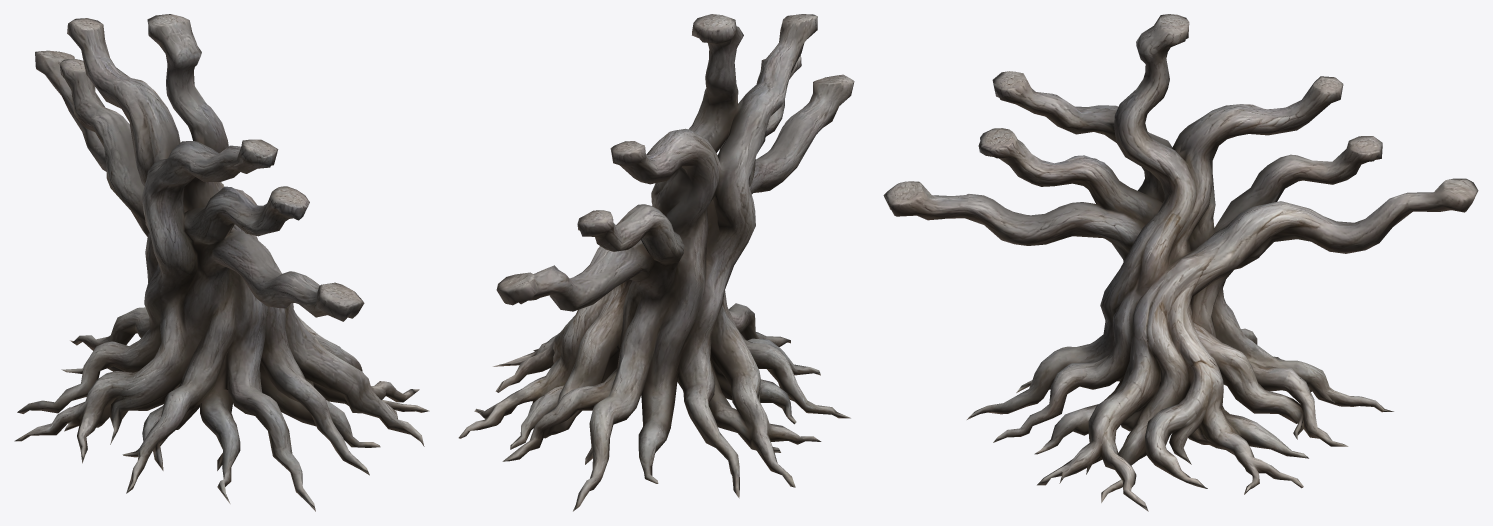
File: tree_trunk_source.glb
3 renders of one model, left to right at view 1: azimuth 30°, elevation 25°; view 2: azimuth 150°, elevation 25°; view 3: azimuth 270°, elevation 25°, orthographic. The views are drawn at different scales.
Parts seen in each view (by area): view 1: tripo_node_20ca06ba-b1ed-4b1f-95a7-8c375f2f3e18; view 2: tripo_node_20ca06ba-b1ed-4b1f-95a7-8c375f2f3e18; view 3: tripo_node_20ca06ba-b1ed-4b1f-95a7-8c375f2f3e18.
Part boxes in pixels (<box>): tripo_node_20ca06ba-b1ed-4b1f-95a7-8c375f2f3e18: <box>14,14,429,511</box>; tripo_node_20ca06ba-b1ed-4b1f-95a7-8c375f2f3e18: <box>458,14,854,511</box>; tripo_node_20ca06ba-b1ed-4b1f-95a7-8c375f2f3e18: <box>883,14,1478,511</box>.
Size of the model in its own units: 0.6231 by 0.702 by 0.9814.
1 material, 1 textured.
